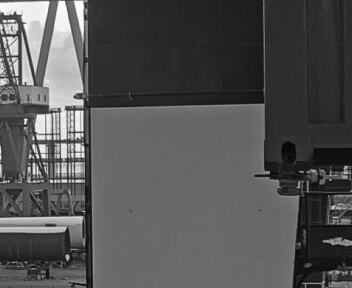twist_lock_1: (262, 163, 314, 201)
